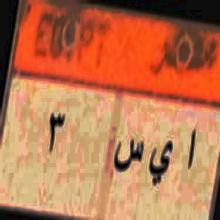3: (45, 106, 66, 153)
alif: (183, 117, 199, 183)
seen: (114, 130, 144, 182)
yaa: (148, 133, 173, 199)
